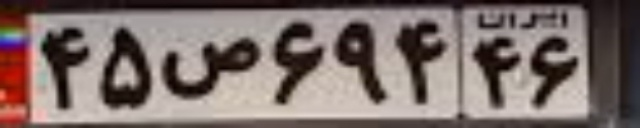4: (395, 21, 446, 104), (41, 26, 90, 109), (471, 37, 519, 106)
5: (98, 26, 153, 107)
6: (269, 21, 323, 106), (527, 37, 581, 109)
9: (331, 20, 388, 104)
saat: (161, 36, 261, 98)
